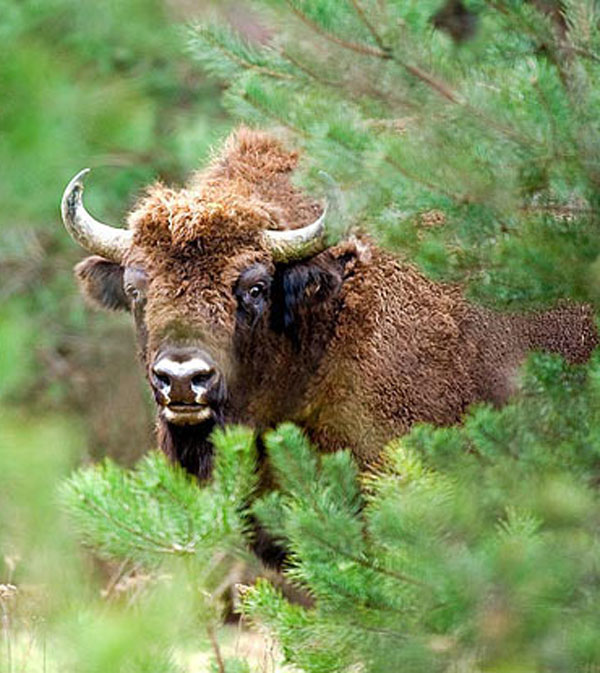zubr: (42, 78, 600, 568)
